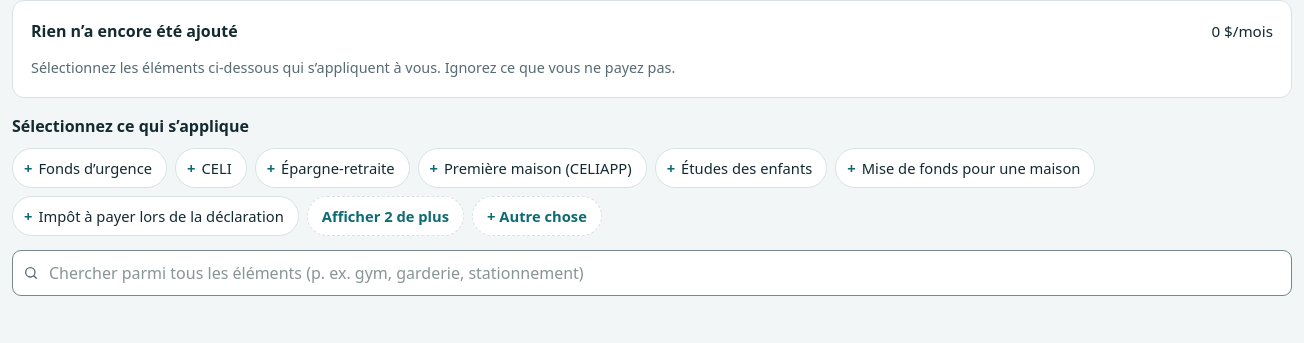
Scenario: BucketStep › names the account type in French
The width and height of the screenshot is (1304, 343).
Click the button named "Ajouter : Épargne-retraite". click: (332, 168)
box: [255,148,410,188]
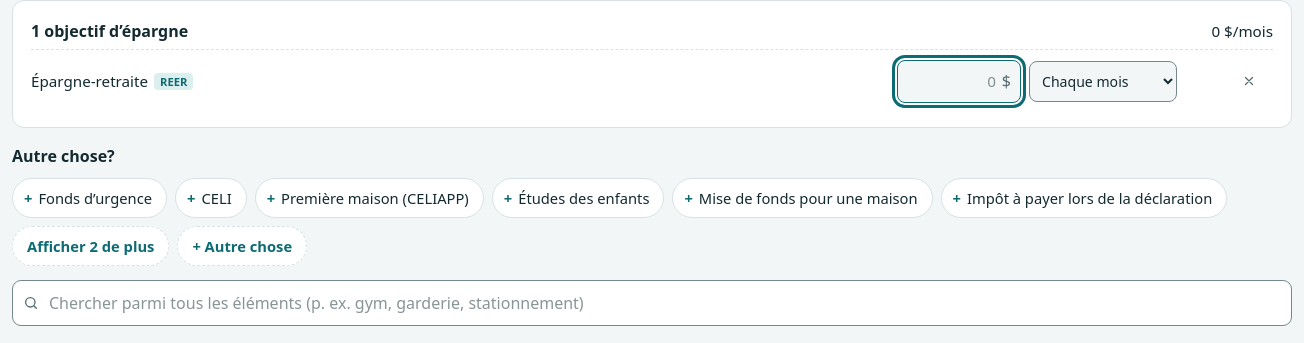
Now the text "REER" is shown, box [154,73,193,90]
